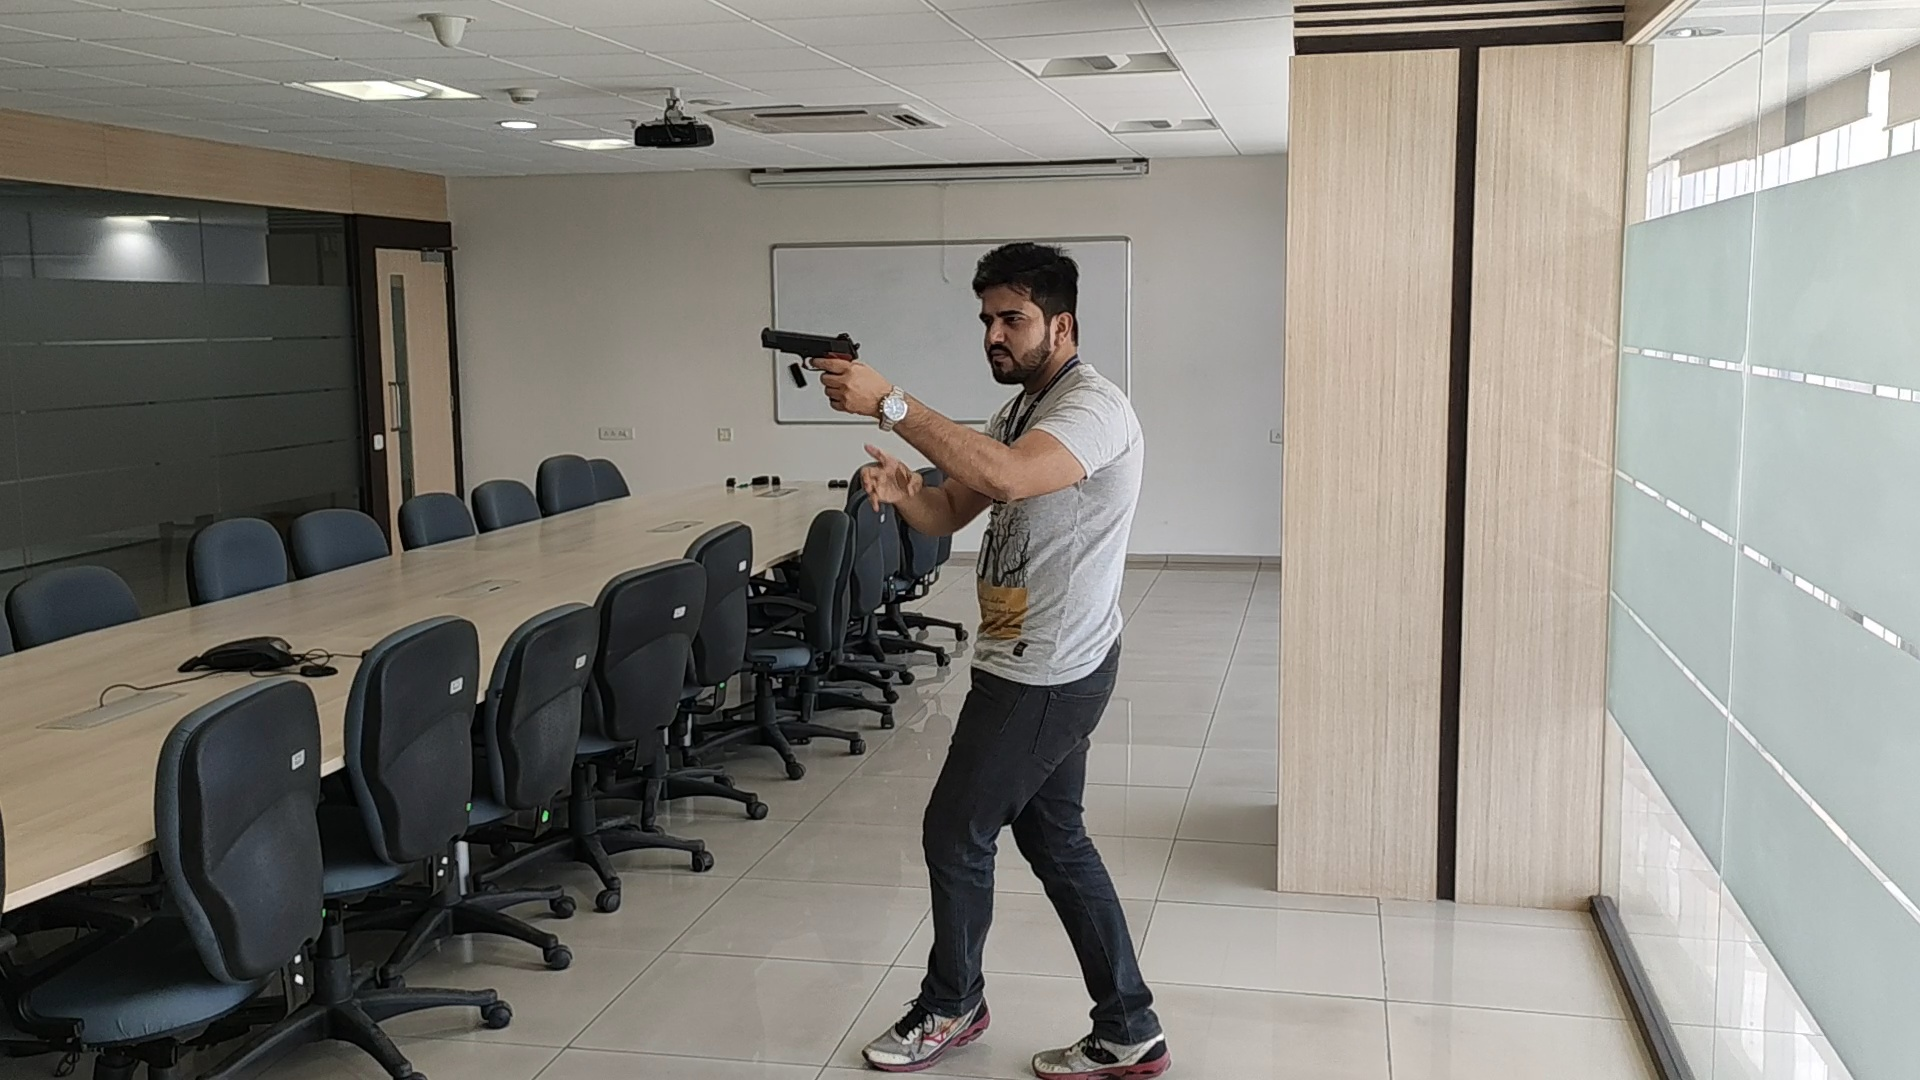gun: (761, 326, 862, 359)
